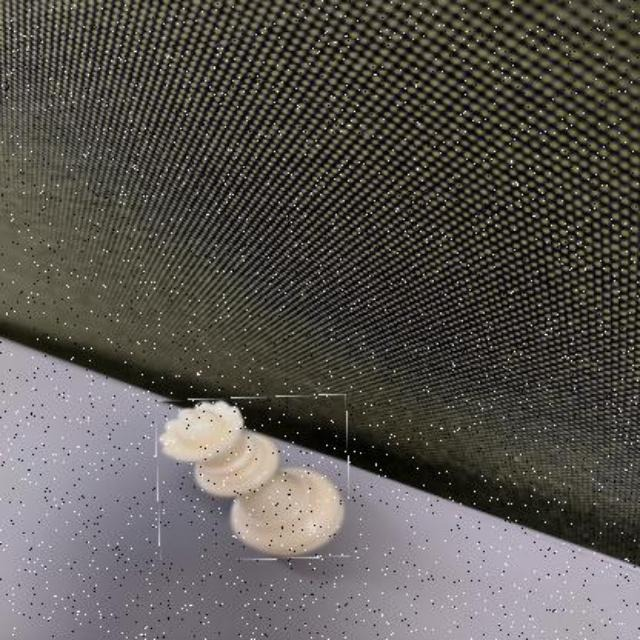white-queen: (158, 396, 350, 560)
